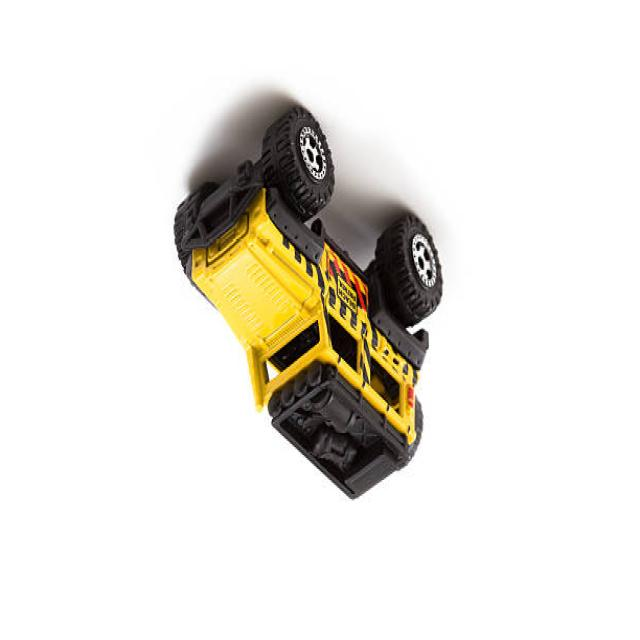Car: (173, 105, 444, 502)
